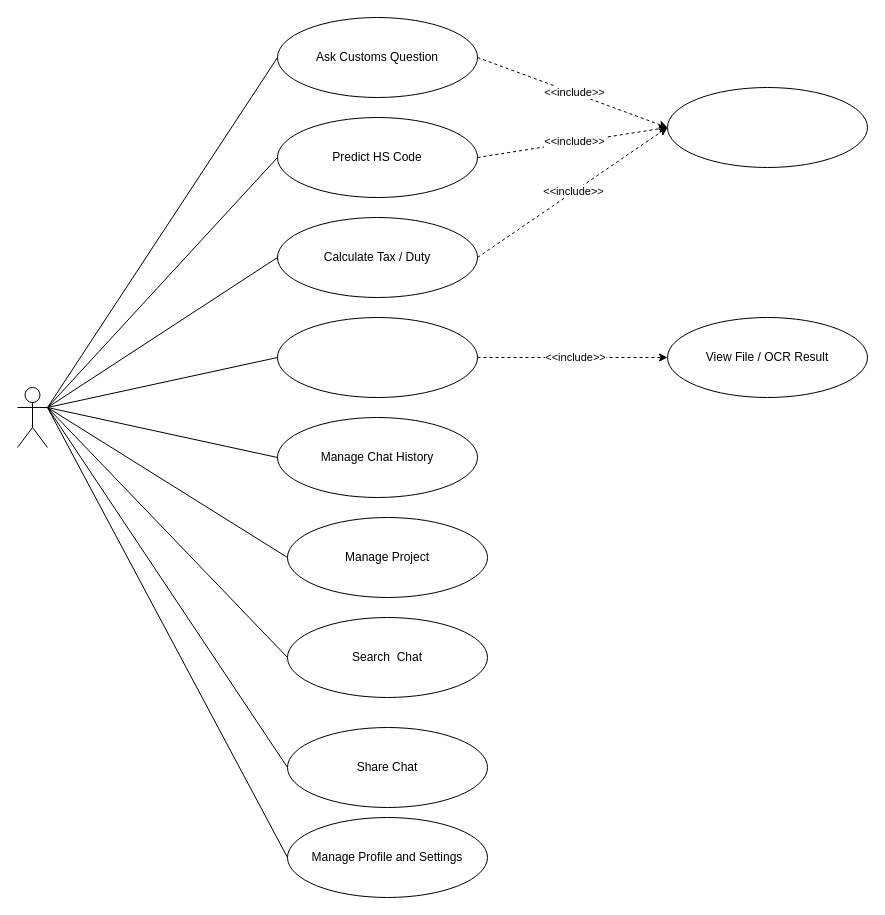
Image size: 885x915. Some labels were removed from this diagram. The box of each missing label's shape, as (x1, y1, x2, y2) in pixels:
Upload Document: (276, 316, 478, 398)
User: (16, 386, 48, 448)
View Formmated Response: (666, 86, 868, 168)
